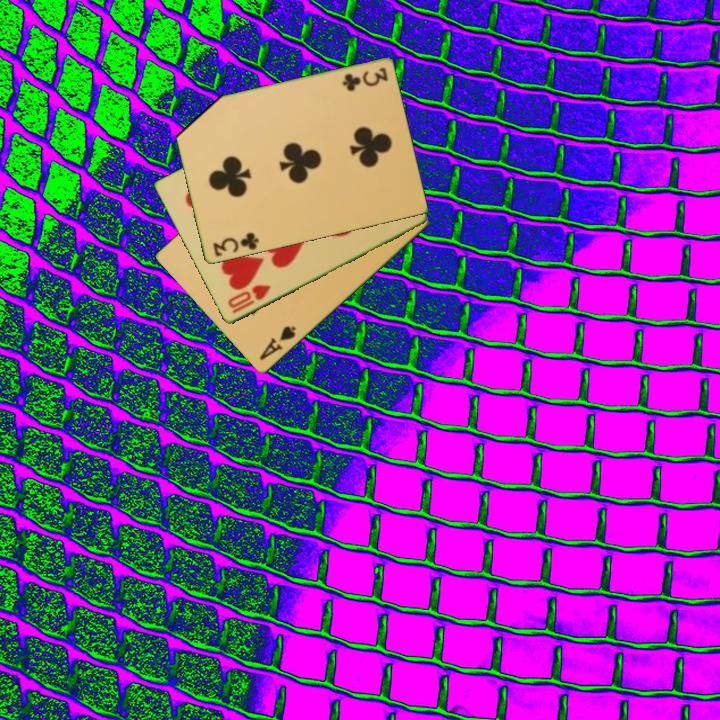10h: (224, 281, 274, 317)
3c: (209, 229, 262, 260), (339, 64, 391, 93)
As: (256, 322, 299, 364)
